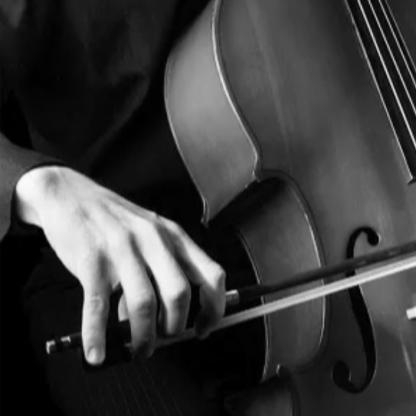good: (36, 163, 254, 368)
